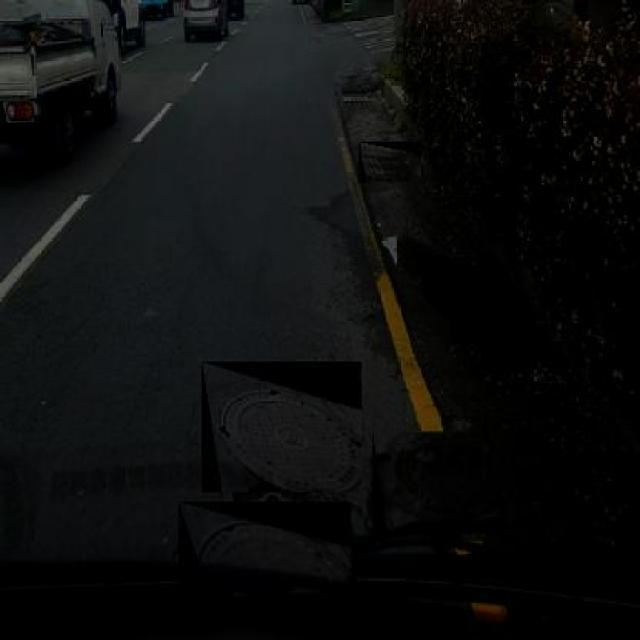Manhole: (202, 362, 362, 492), (178, 501, 352, 597), (372, 433, 505, 535), (359, 142, 421, 184)
